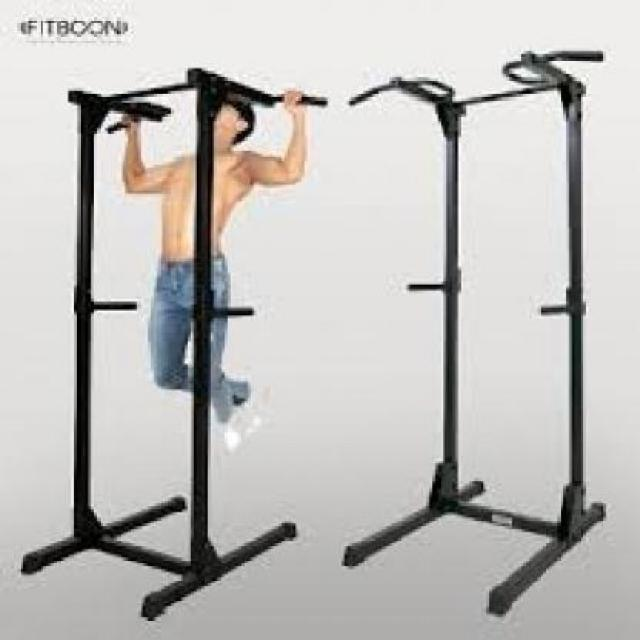chinning dipping: (23, 66, 326, 620), (343, 49, 608, 617)
